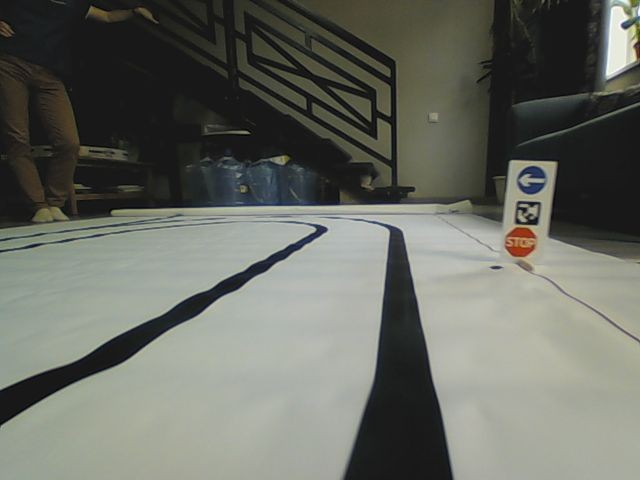Stop: (500, 226, 539, 256)
